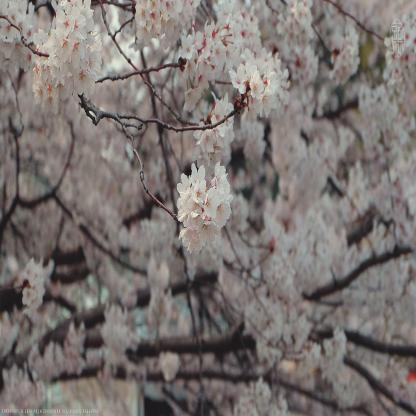Someiyoshino: (1, 3, 414, 414)
